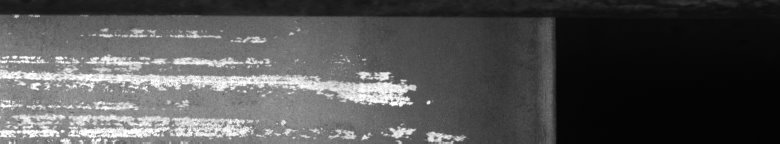kb: (4, 8, 464, 136)
